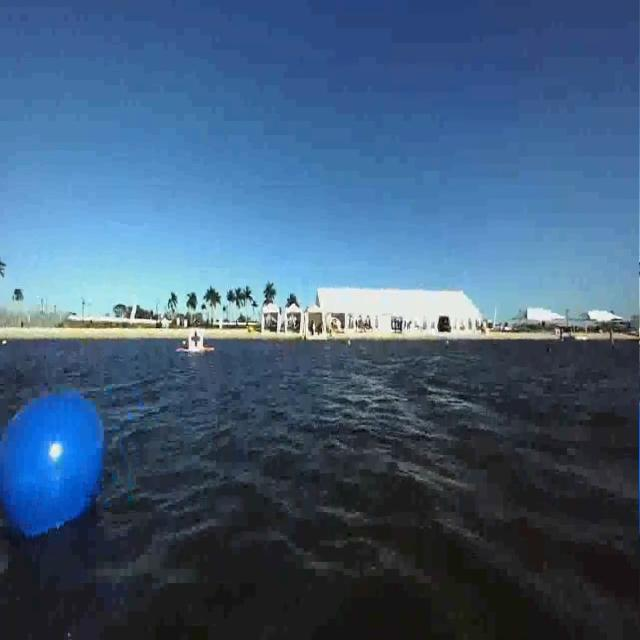blue-buoy: (2, 382, 110, 538)
